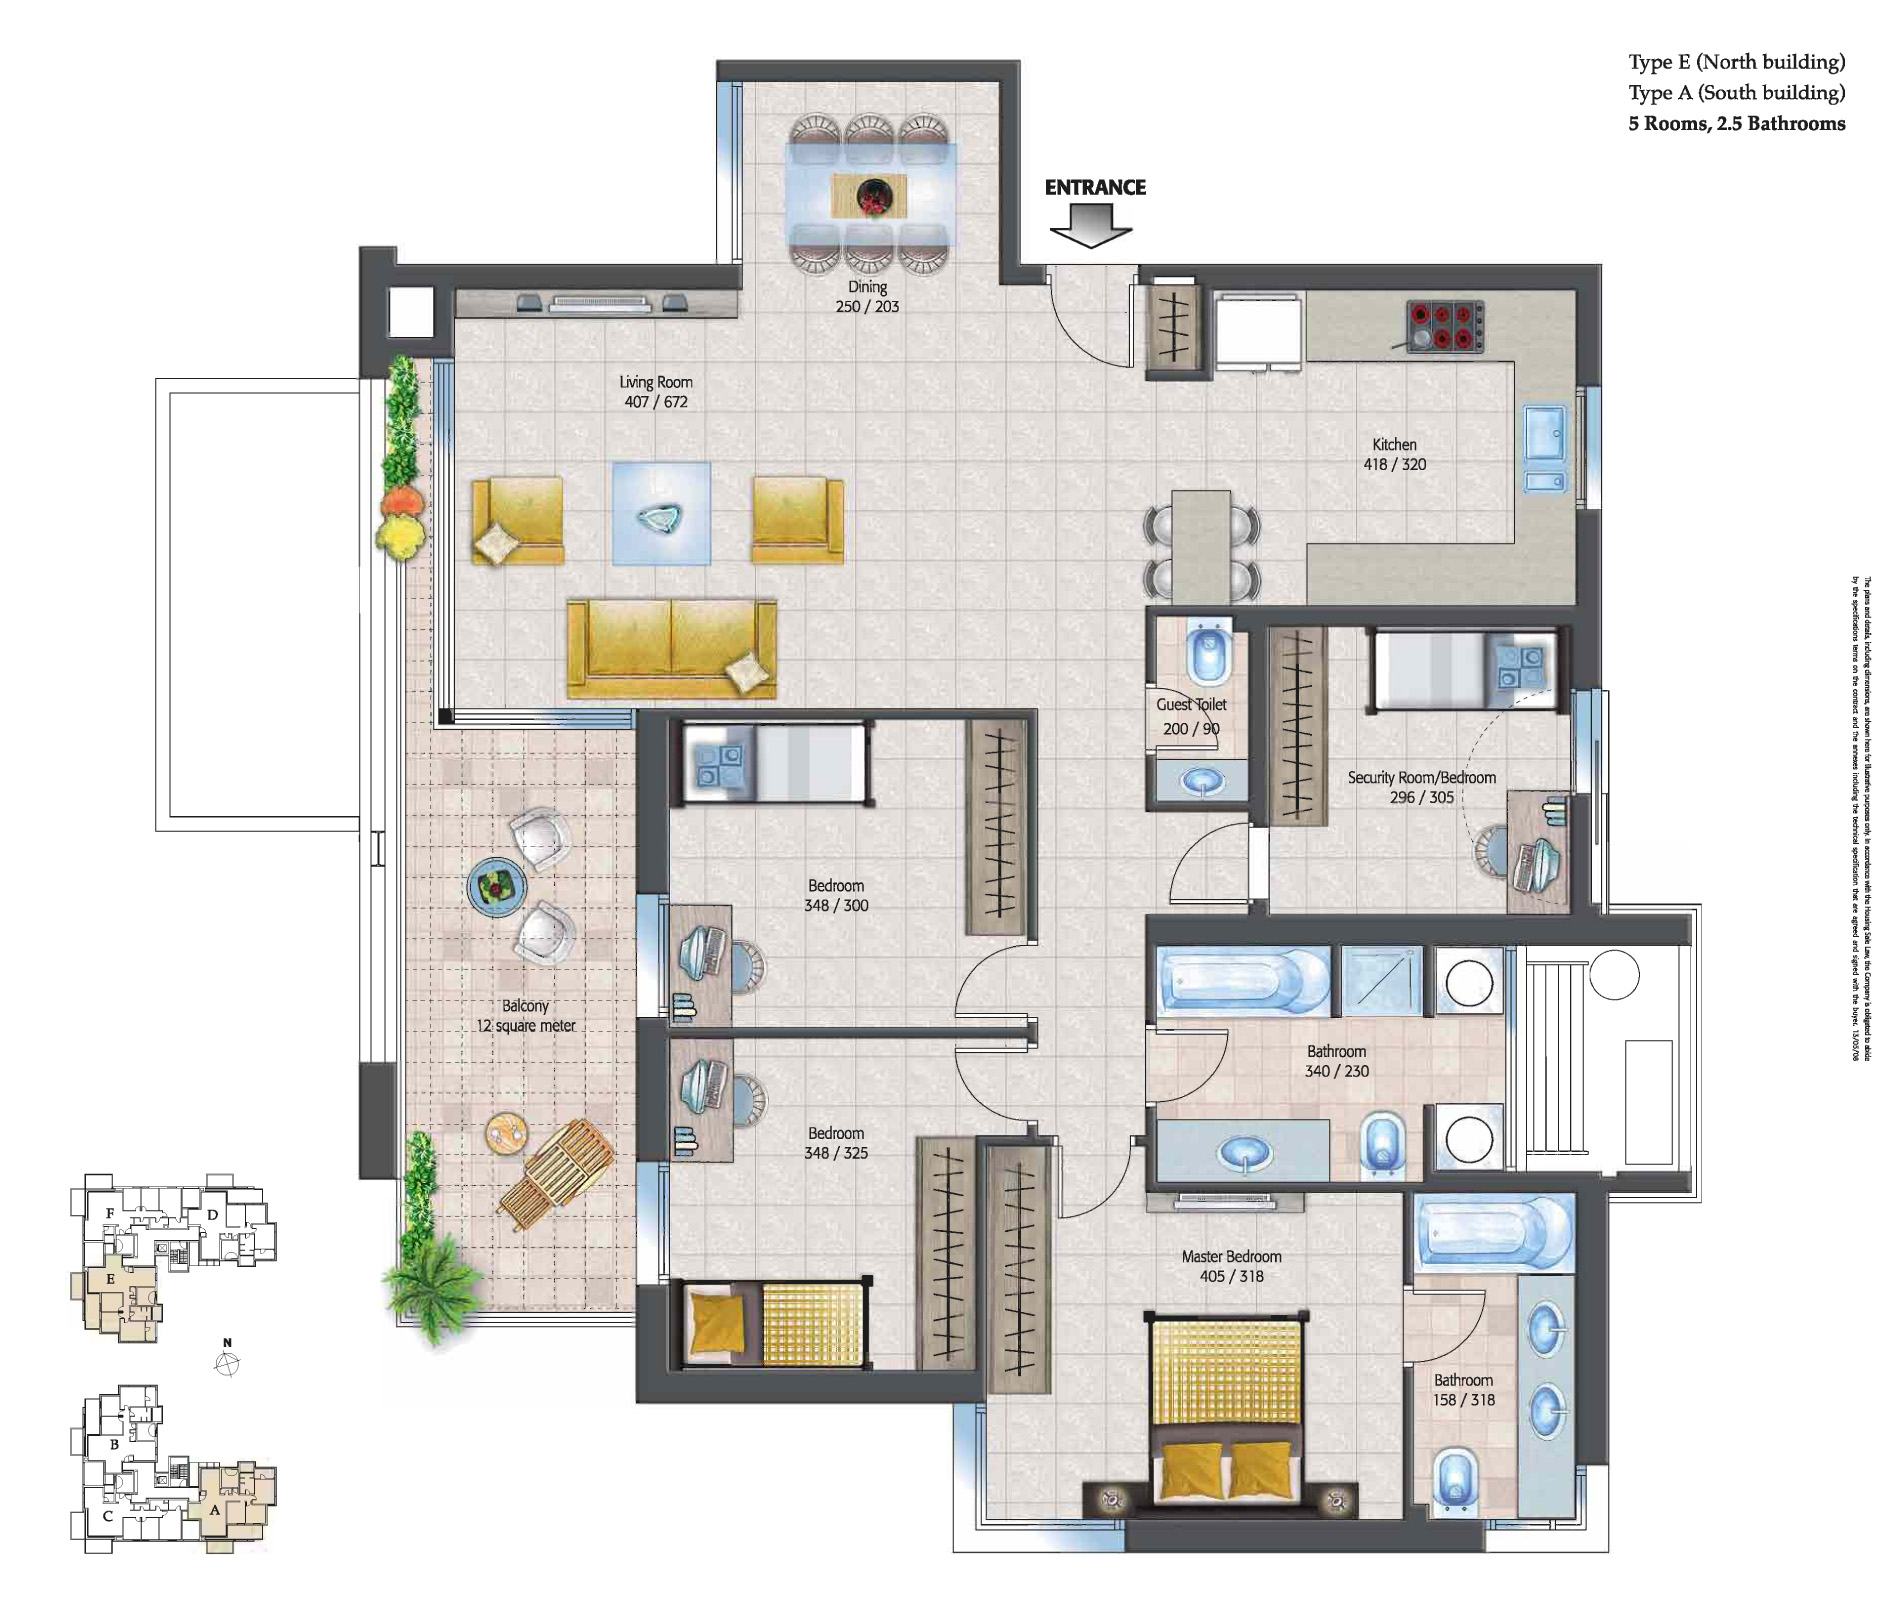door: (1148, 823, 1236, 909), (934, 940, 1022, 1023), (1425, 1283, 1509, 1371), (1028, 303, 1139, 368), (1059, 1154, 1140, 1243), (935, 1042, 1011, 1135), (1172, 1015, 1238, 1100)
wall: (1576, 1190, 1611, 1470), (641, 716, 668, 893)
window: (717, 78, 748, 263)
